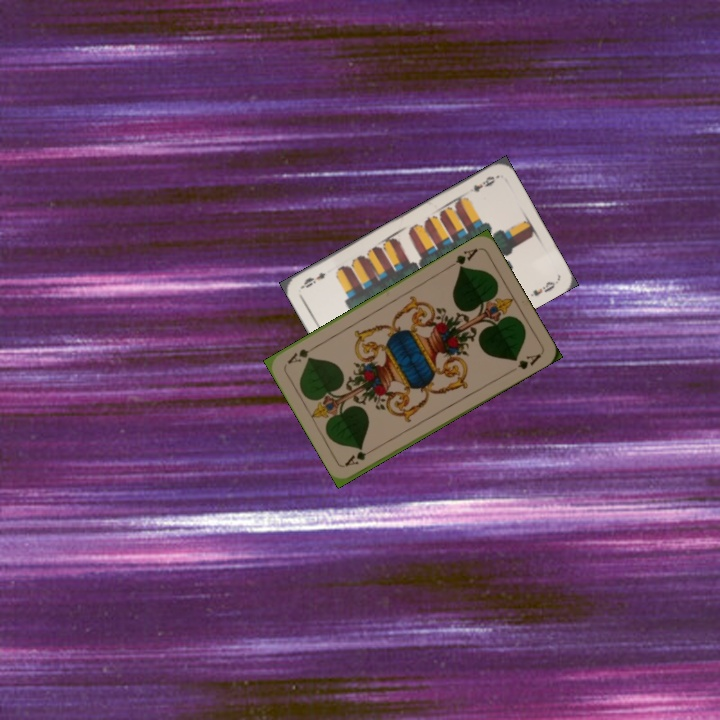E9: (469, 172, 500, 195)
GA: (444, 244, 481, 272), (341, 444, 379, 469)
